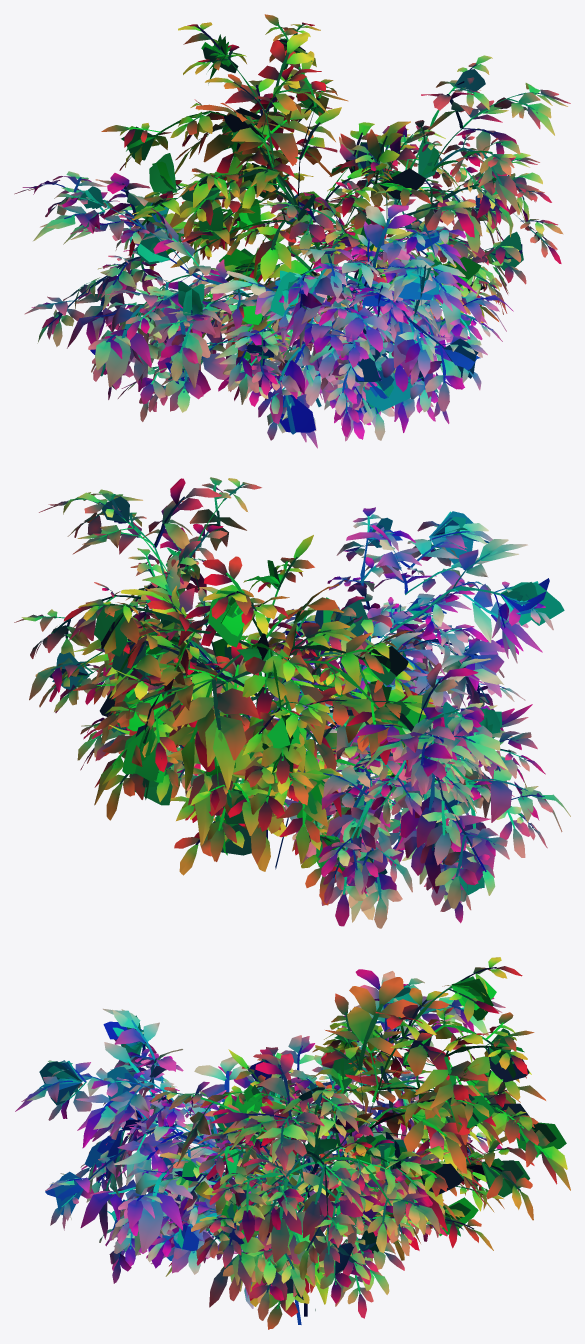
Rendered from Elderberry_wfzobb2ia_Mid_wfzobb2ia_VarB_LOD0.fbx.
The picture shows the model from 3 angles, top to bottom: view 1: azimuth 30°, elevation 25°; view 2: azimuth 150°, elevation 25°; view 3: azimuth 270°, elevation 25°; orthographic projection. The views are drawn at different scales.
Parts seen in each view (by area): view 1: _xbqo_VarB_LOD1; view 2: _xbqo_VarB_LOD1; view 3: _xbqo_VarB_LOD1.
Boxes of the visible parts, x1,y1,x2,y2 form: _xbqo_VarB_LOD1: (14, 14, 570, 448); _xbqo_VarB_LOD1: (14, 477, 570, 928); _xbqo_VarB_LOD1: (15, 957, 570, 1329).
Size of the model in its own units: 231 by 149 by 225.
